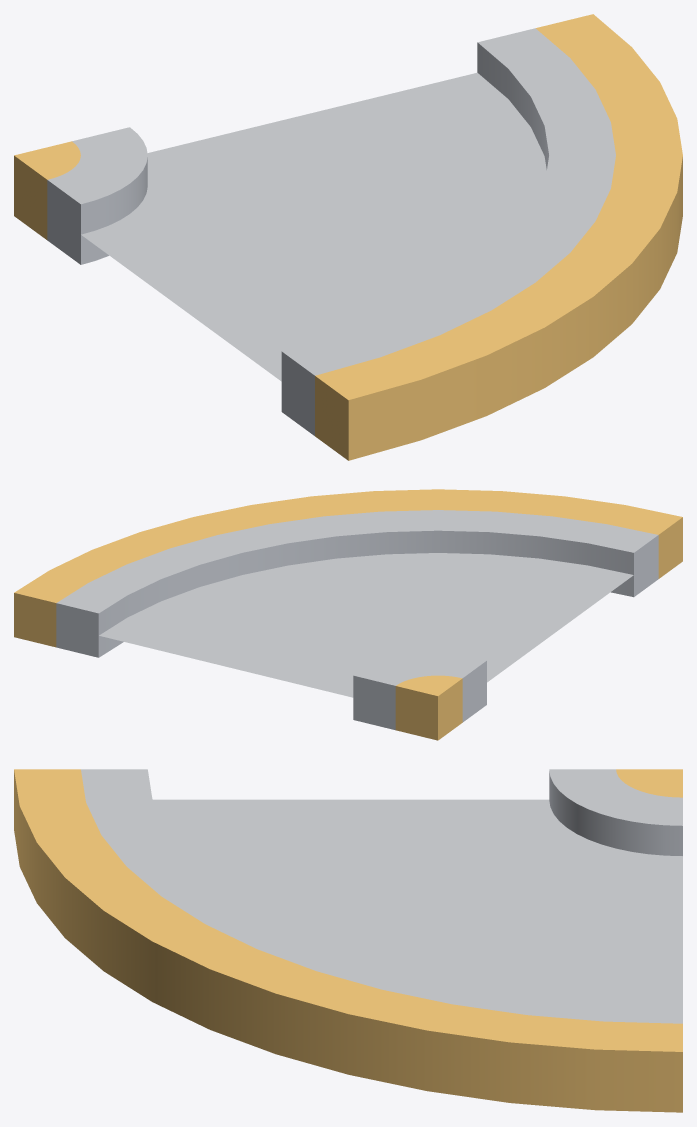
File: platform_cornerRound.glb
The picture shows the model from 3 angles, top to bottom: view 1: azimuth 30°, elevation 25°; view 2: azimuth 150°, elevation 25°; view 3: azimuth 270°, elevation 25°; orthographic projection. The views are drawn at different scales.
Parts seen in each view (by area): view 1: platform_cornerRound; view 2: platform_cornerRound; view 3: platform_cornerRound.
Part boxes in pixels (x1,y1,x2,y2): platform_cornerRound: (14,14,682,460); platform_cornerRound: (14,489,682,740); platform_cornerRound: (14,769,682,1112).
Bounding box in the file's own units: 1.4 × 0.1404 × 1.4.
